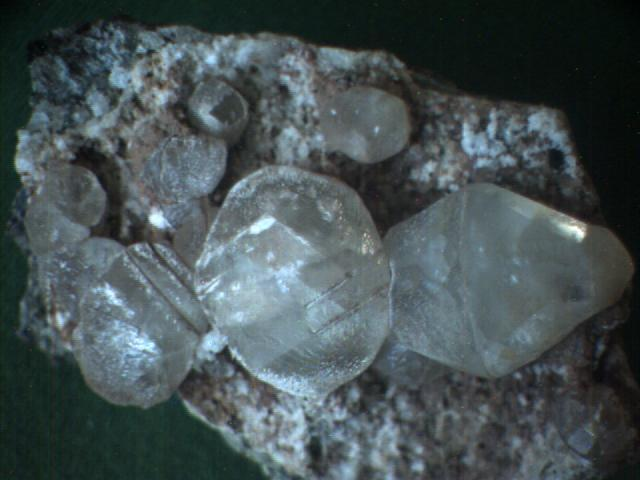calcite: (24, 163, 633, 408), (142, 79, 248, 204), (321, 86, 412, 164)
